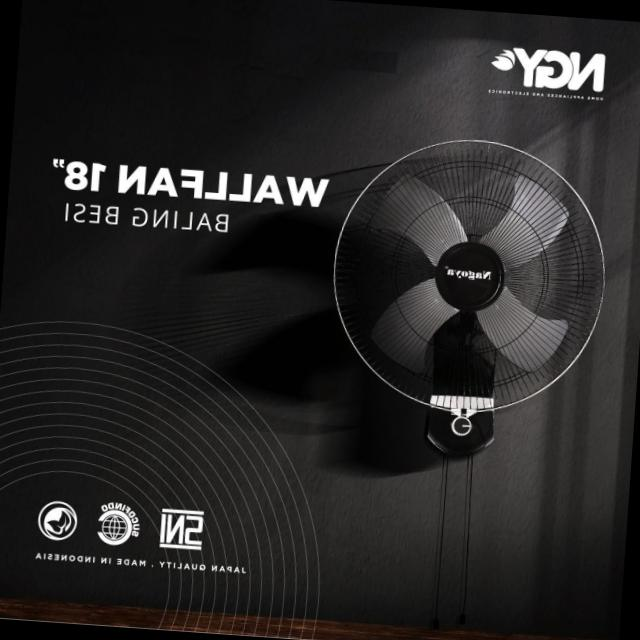fan: (309, 119, 628, 481)
